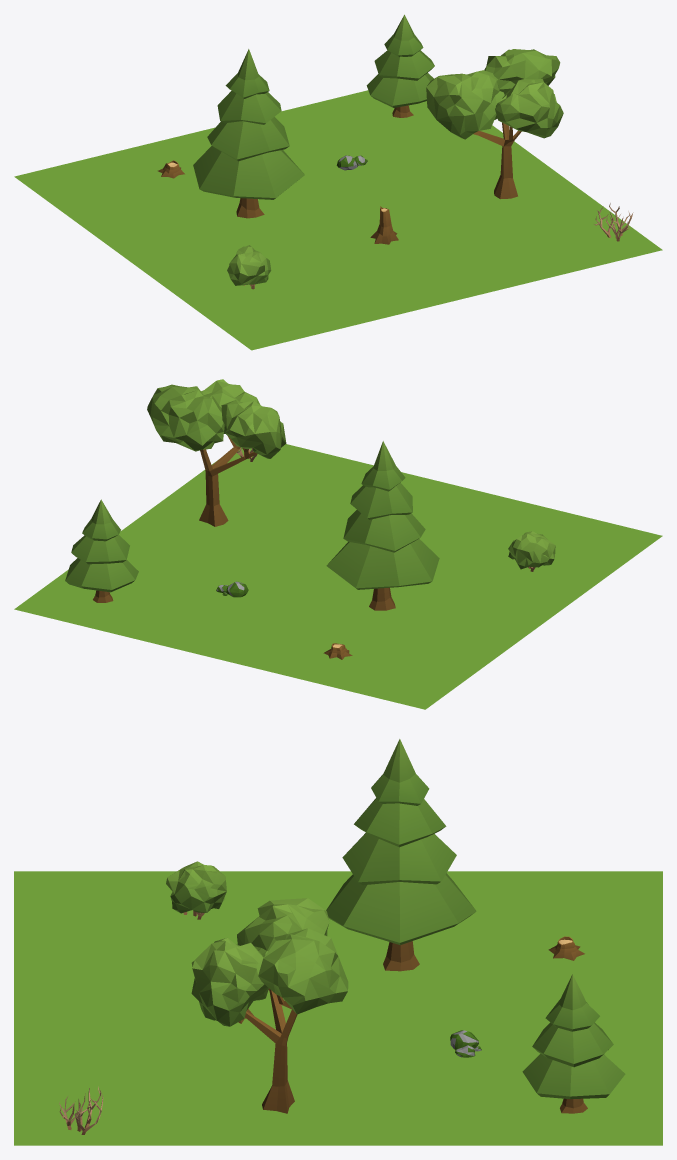
The model's file is enviroment_3.gltf.
3 renders of one model, top to bottom at view 1: azimuth 30°, elevation 25°; view 2: azimuth 150°, elevation 25°; view 3: azimuth 270°, elevation 25°, orthographic. The views are drawn at different scales.
Parts seen in each view (by area): view 1: SimpleGround.001, Tree_average_regular.001, Tree_Spruce_small_02, Tree_Spruce_tiny_02, Bush_average.001, Stump_average_high.001, Bush_average_bare.001; view 2: SimpleGround.001, Tree_Spruce_small_02, Tree_average_regular.001, Tree_Spruce_tiny_02, Bush_average.001; view 3: SimpleGround.001, Tree_Spruce_small_02, Tree_average_regular.001, Tree_Spruce_tiny_02, Bush_average.001, Bush_average_bare.001, Stone_group_average_mossy.001.
Part boxes in pixels (x1,y1,x2,y2): SimpleGround.001: [14, 90, 662, 350]; Tree_average_regular.001: [426, 49, 563, 199]; Tree_Spruce_small_02: [193, 49, 304, 218]; Tree_Spruce_tiny_02: [366, 14, 434, 117]; Bush_average.001: [227, 245, 271, 289]; Stump_average_high.001: [370, 206, 398, 244]; Bush_average_bare.001: [594, 203, 633, 241]; SimpleGround.001: [14, 444, 662, 709]; Tree_Spruce_small_02: [326, 441, 439, 610]; Tree_average_regular.001: [147, 379, 286, 526]; Tree_Spruce_tiny_02: [65, 499, 138, 602]; Bush_average.001: [508, 531, 555, 571]; SimpleGround.001: [14, 871, 662, 1145]; Tree_Spruce_small_02: [326, 739, 476, 971]; Tree_average_regular.001: [191, 898, 348, 1113]; Tree_Spruce_tiny_02: [522, 974, 625, 1113]; Bush_average.001: [166, 861, 226, 919]; Bush_average_bare.001: [59, 1086, 103, 1134]; Stone_group_average_mossy.001: [450, 1030, 481, 1057].
Size of the model in its own units: 20 by 7.66 by 20.
Materials: 8 (7 with a texture image).
